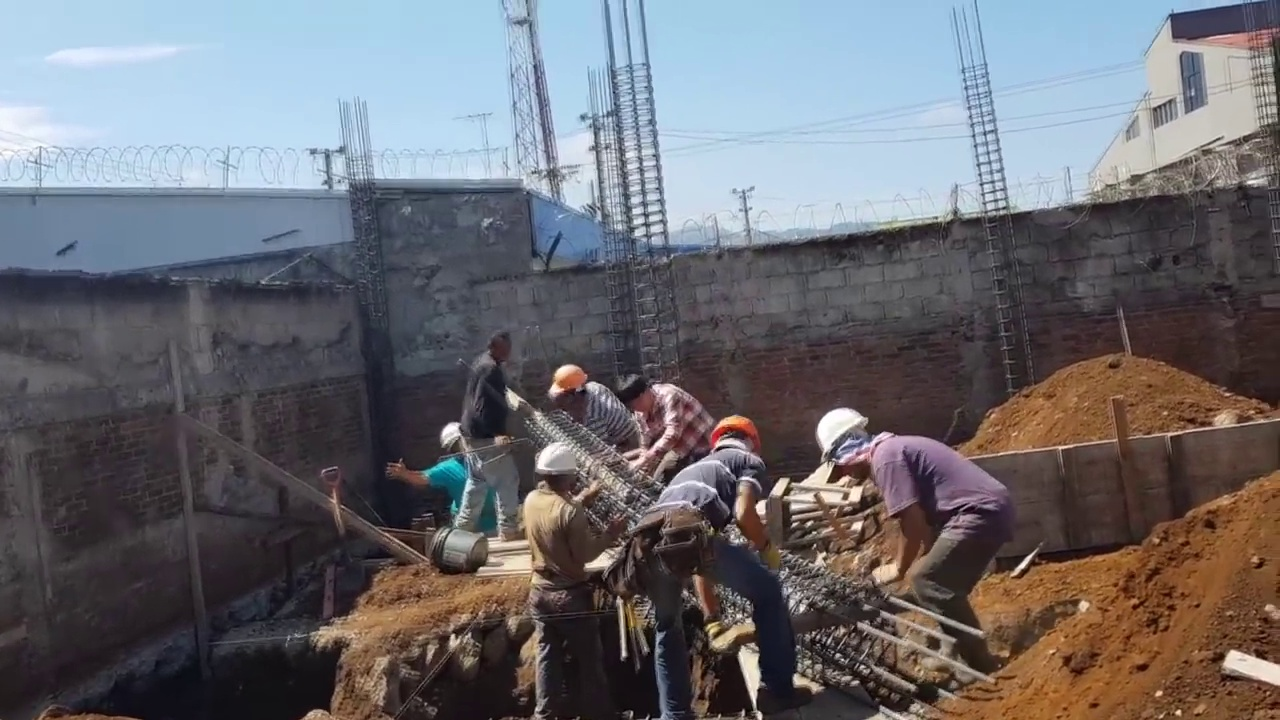helmet: (816, 408, 867, 466), (709, 417, 760, 451), (532, 448, 580, 481), (547, 367, 591, 396), (436, 423, 461, 451)
helmet-off: (623, 381, 661, 422), (483, 333, 512, 367)
helmet-on: (812, 403, 885, 485), (532, 446, 581, 505), (706, 416, 761, 468), (546, 368, 591, 408), (436, 423, 463, 462)
person: (811, 401, 1013, 666), (637, 416, 786, 720), (525, 447, 626, 698), (376, 417, 492, 535), (461, 331, 518, 547), (621, 375, 709, 472), (546, 363, 640, 450)
